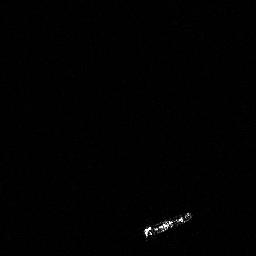ship: (143, 210, 194, 243)
